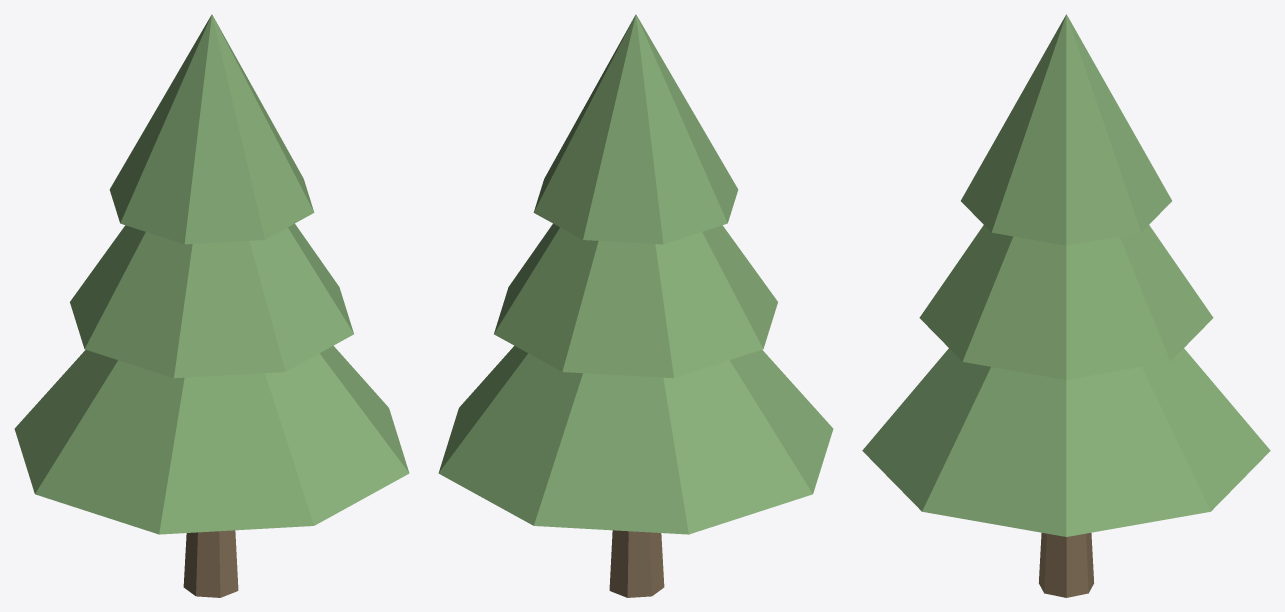
The model's file is nature_tree_pine_03.glb.
The picture shows the model from 3 angles, left to right: view 1: azimuth 30°, elevation 25°; view 2: azimuth 150°, elevation 25°; view 3: azimuth 270°, elevation 25°; orthographic projection.
Visible parts, largest first — view 1: geometry_0; view 2: geometry_0; view 3: geometry_0.
Part boxes in pixels (x1,y1,x2,y2): geometry_0: [14, 14, 409, 597]; geometry_0: [438, 14, 833, 597]; geometry_0: [862, 14, 1270, 597].
Size of the model in its own units: 2.3 by 3.55 by 2.3.
